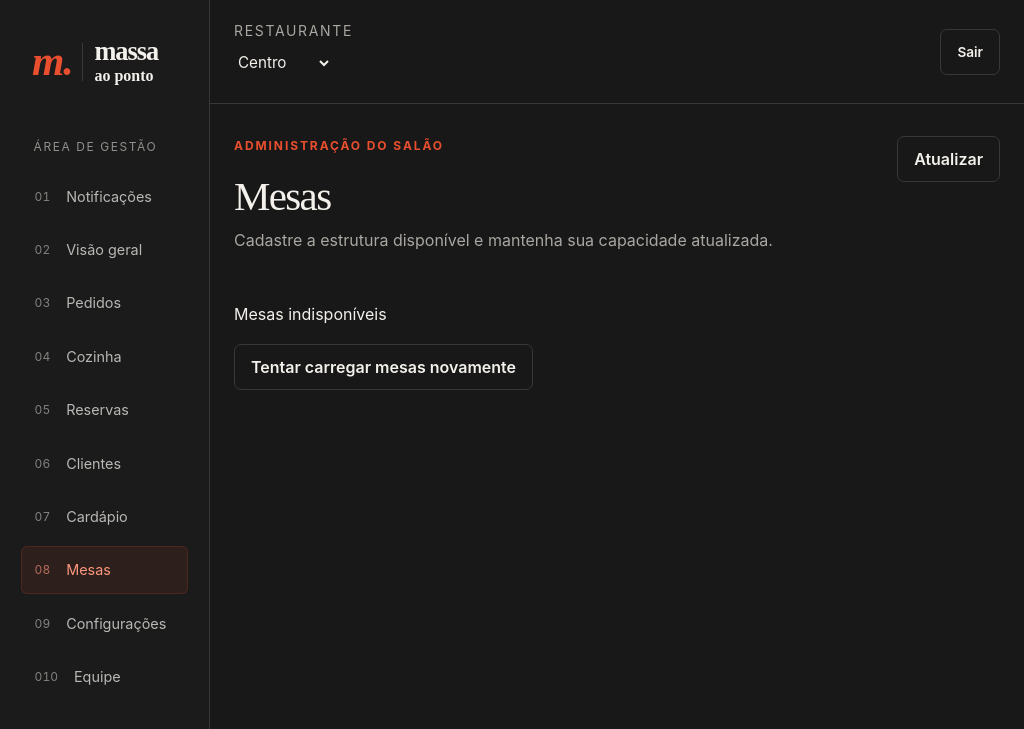
Tables UI › preserves backend errors and supports retrying the list
Check: the text "Mesas indisponíveis" is shown, box [234,304,387,324]
Click the button "Tentar carregar mesas novamente". click: click(384, 367)
box: [234,344,533,390]
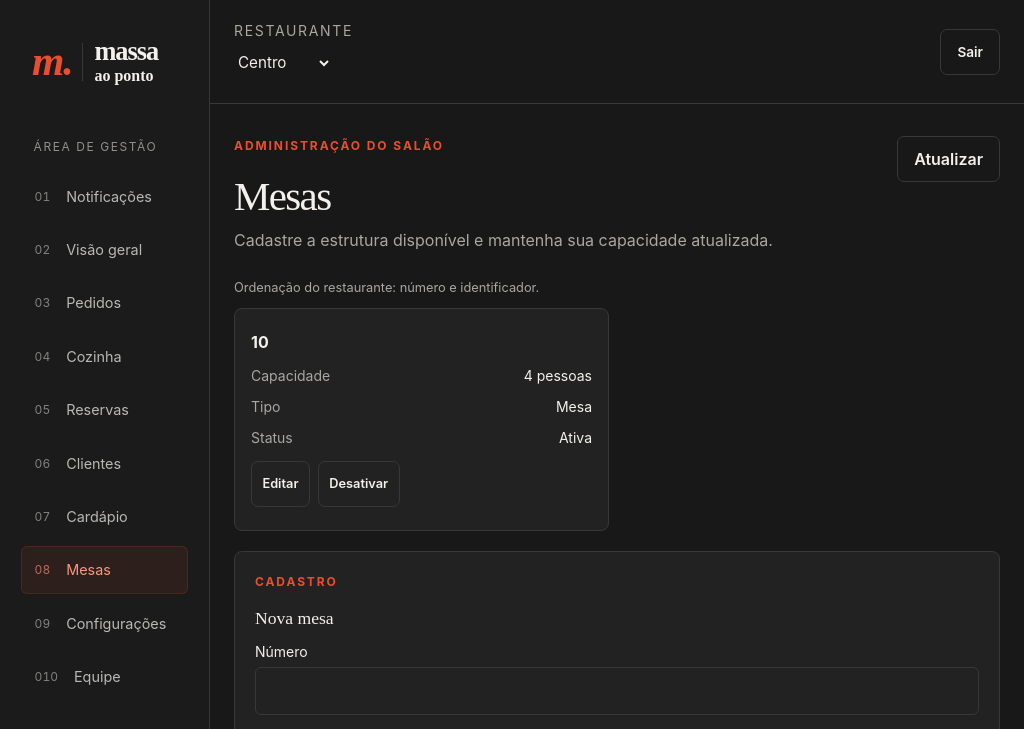
Check: the text "4 pessoas" is shown, box [251,360,592,391]
Click the button "Editar". click: click(280, 484)
box: [251,461,310,507]
(page scrolled)
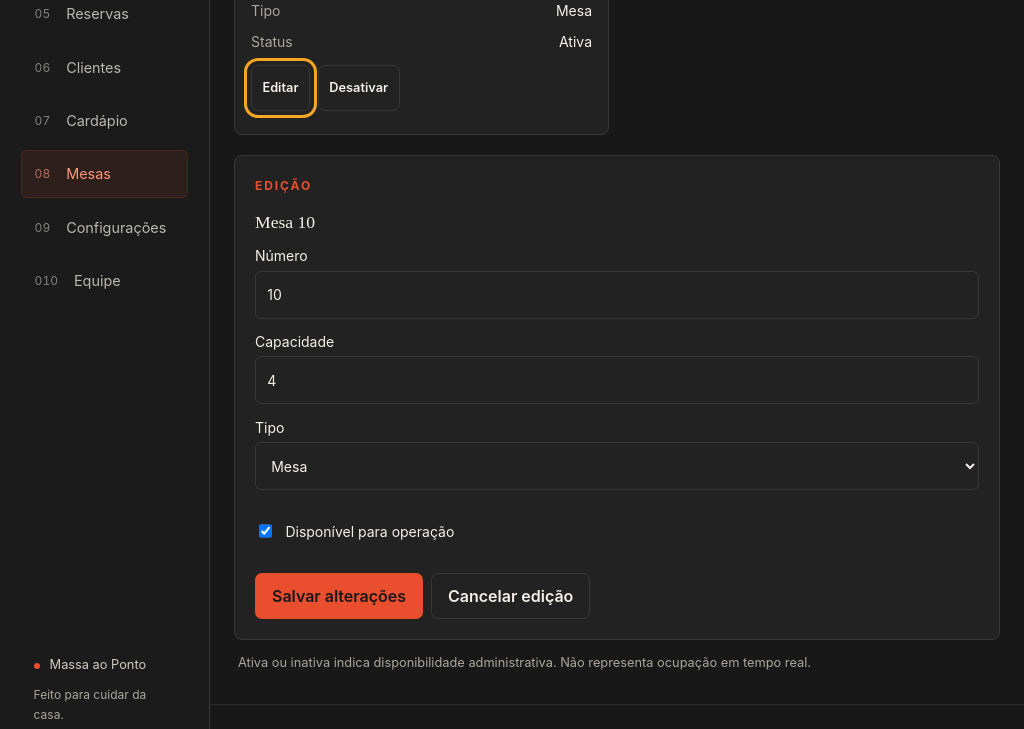
Click the button "Salvar alterações". click: click(339, 596)
box: [255,573,423,619]
(page scrolled)
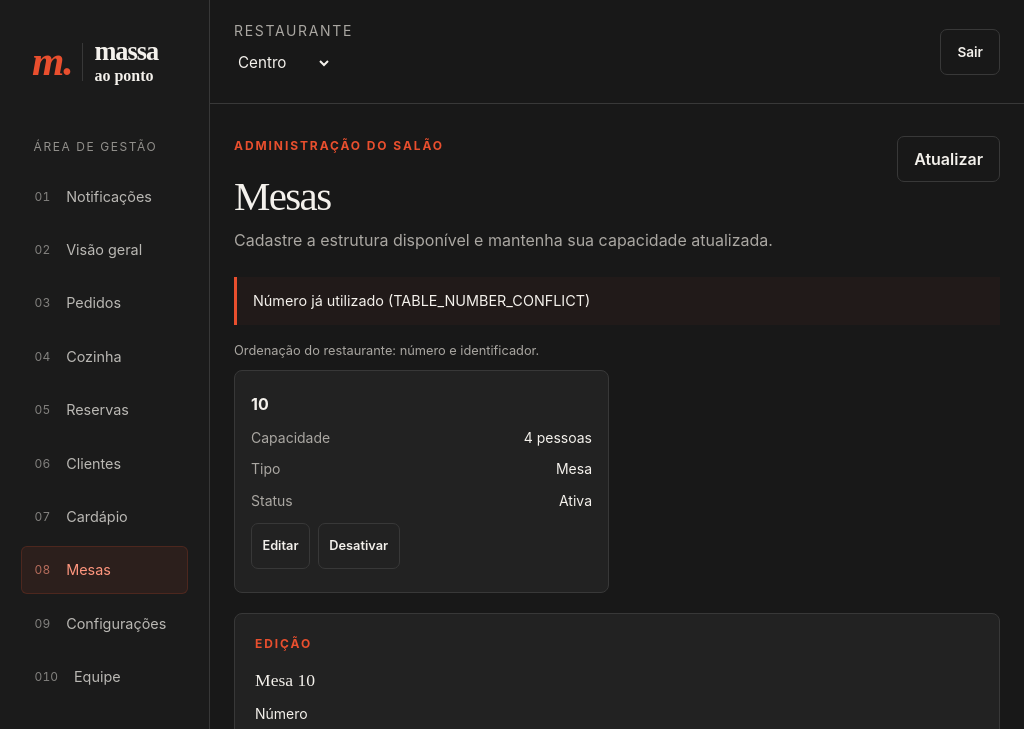
Check: the text "Número já utilizado (TABLE_NUMBER_CONFLICT)" is shown, box [234,277,1000,325]
